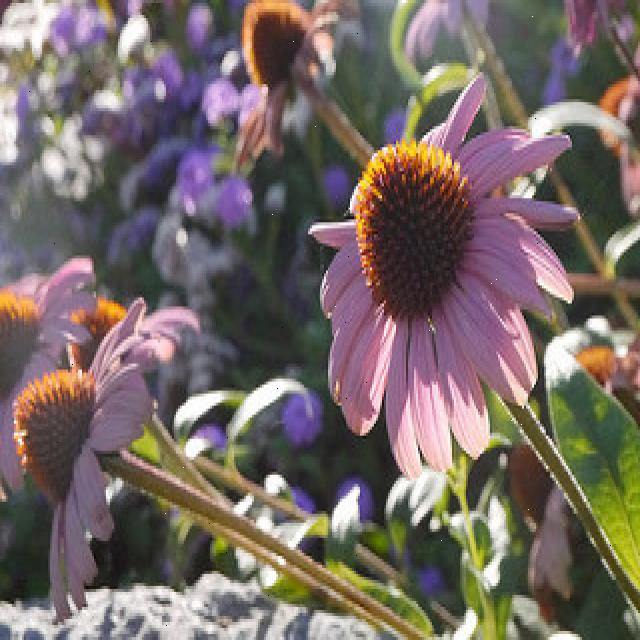Bloomed: (306, 72, 578, 478)
